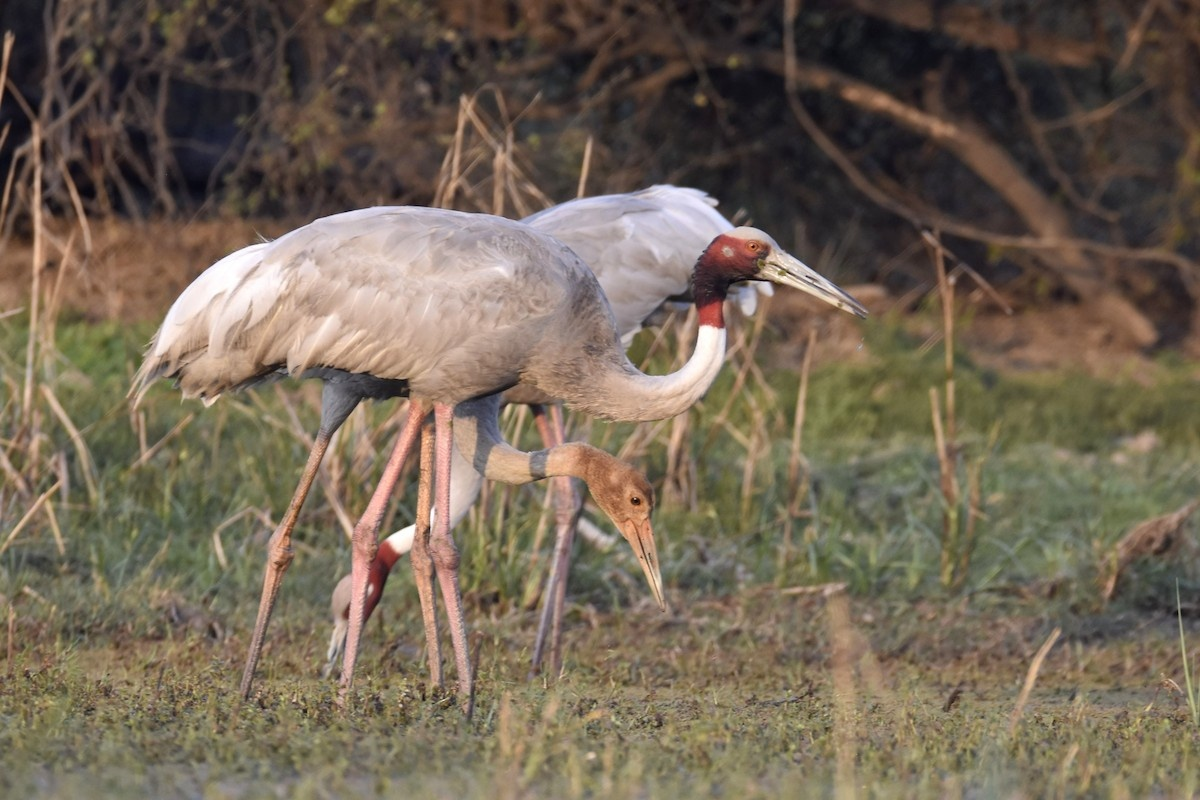crane: (124, 207, 875, 721), (452, 412, 677, 621)
